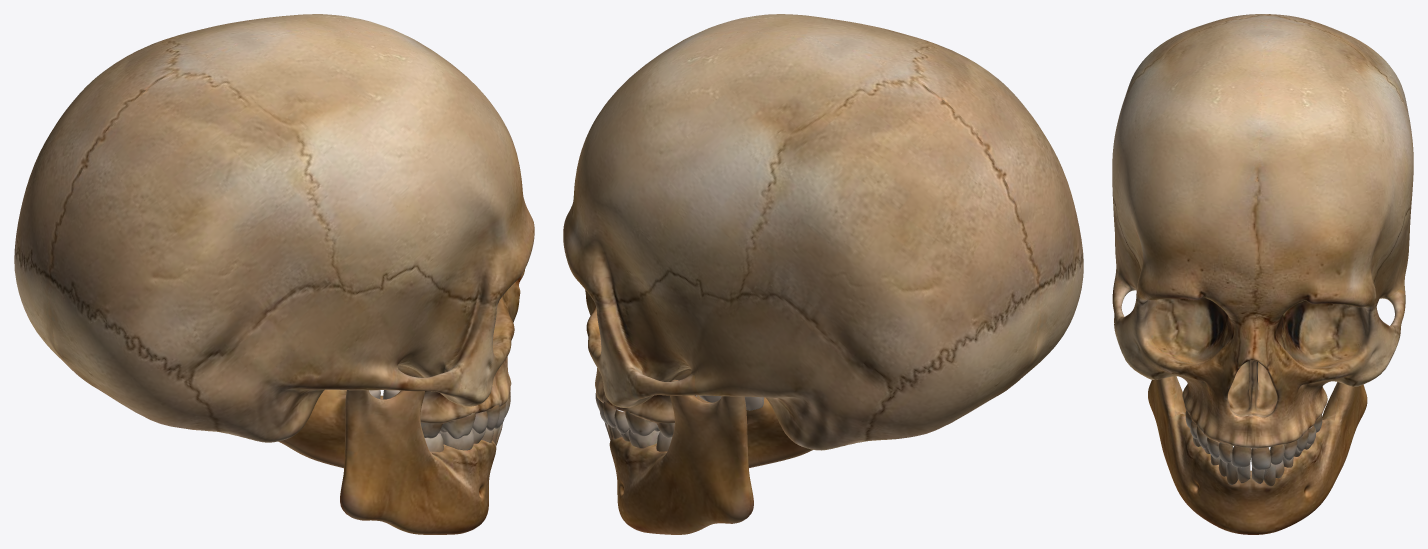
The model's file is skull.glb.
The picture shows the model from 3 angles, left to right: view 1: azimuth 30°, elevation 25°; view 2: azimuth 150°, elevation 25°; view 3: azimuth 270°, elevation 25°; orthographic projection. The views are drawn at different scales.
Visible parts, largest first — view 1: 12140_Skull_v3_L2; view 2: 12140_Skull_v3_L2; view 3: 12140_Skull_v3_L2.
Boxes of the visible parts, x1,y1,x2,y2 form: 12140_Skull_v3_L2: [14, 14, 534, 534]; 12140_Skull_v3_L2: [563, 14, 1083, 534]; 12140_Skull_v3_L2: [1112, 14, 1413, 534].
Bounding box in the file's own units: 28.59 × 30.31 × 19.85.
Materials: 1 (1 with a texture image).
